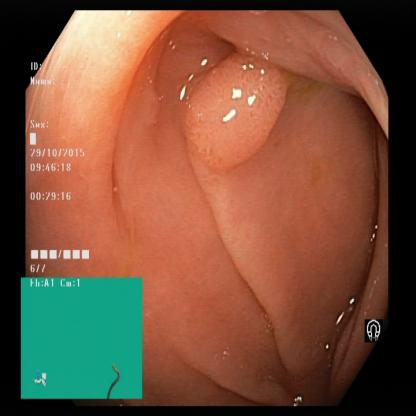Labels: (24, 56, 120, 277), (21, 275, 144, 401), (364, 294, 384, 354)
Polyps: (184, 40, 292, 175)
